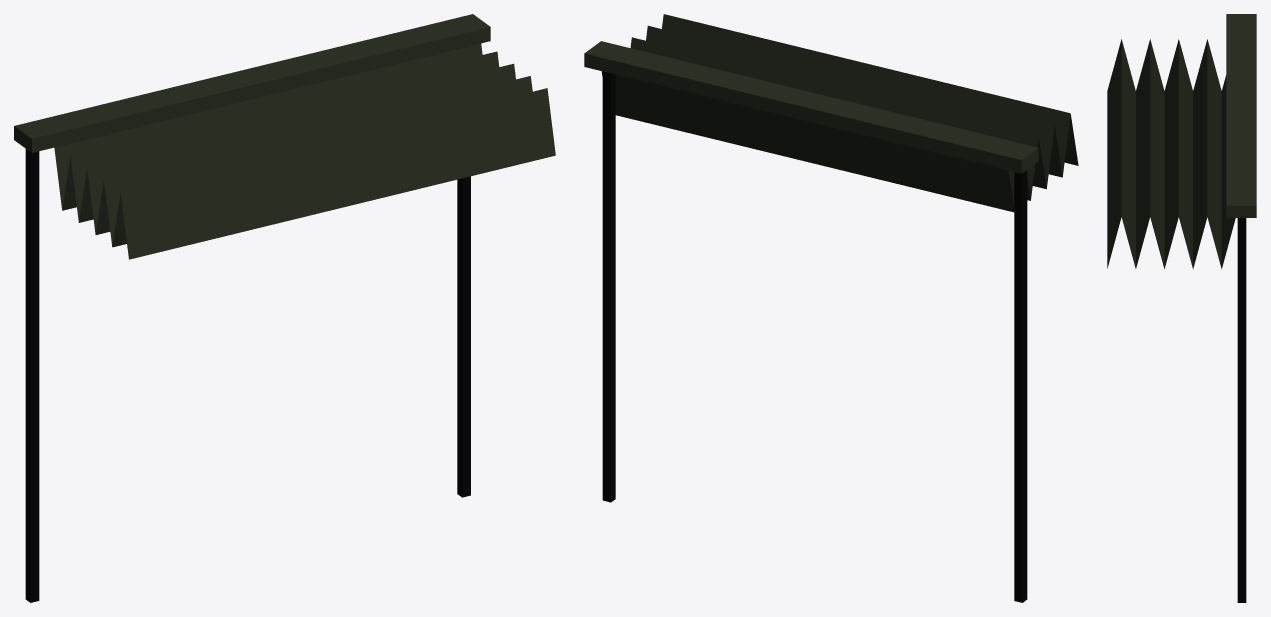
File: Gazebo.glb
The picture shows the model from 3 angles, left to right: view 1: azimuth 30°, elevation 25°; view 2: azimuth 150°, elevation 25°; view 3: azimuth 270°, elevation 25°; orthographic projection. The views are drawn at different scales.
Parts seen in each view (by area): view 1: roofroom_tent_geo; view 2: roofroom_tent_geo; view 3: roofroom_tent_geo.
Boxes of the visible parts, left/top/right/bottom form: roofroom_tent_geo: left=14, top=14, right=555, bottom=602; roofroom_tent_geo: left=584, top=14, right=1078, bottom=602; roofroom_tent_geo: left=1107, top=14, right=1256, bottom=602.
Size of the model in its own units: 5.12 by 5.01 by 1.68.
1 material, 1 textured.
